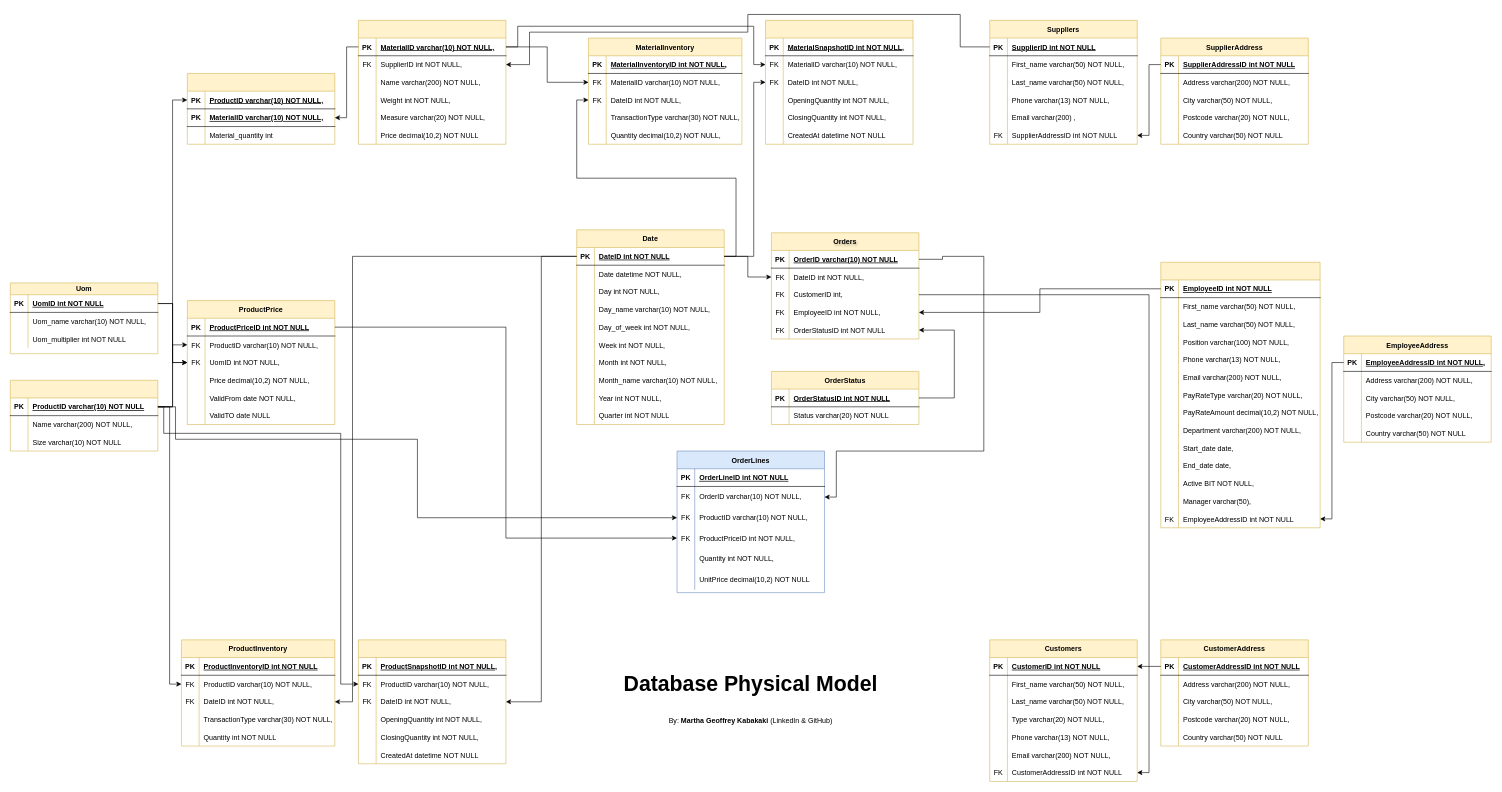
Image size: 1502x792. Some labels were removed from this diagram. The shapes that lost their labels are listed below. From the top down, each one's box as (x1, y1, x2, y2) in pixels, then its label:
(358, 20, 506, 144): Materials
(765, 20, 913, 144): MaterialInventorySnapshot
(187, 73, 335, 144): MaterialInProduct
(1160, 262, 1320, 528): Employees
(10, 380, 158, 451): Products
(358, 639, 506, 764): ProductInventorySnapshot
